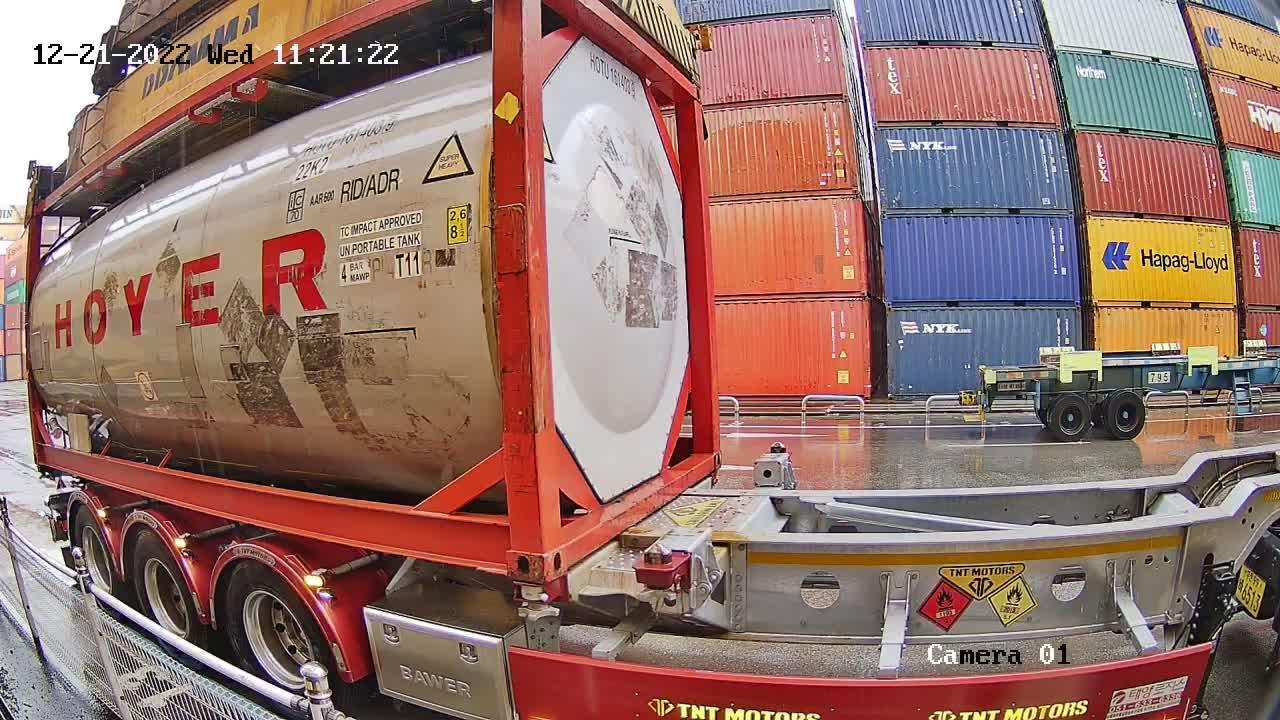Chassis: (514, 471, 721, 615)
Cone: (513, 578, 560, 623)
Hole_L: (540, 505, 584, 582)
Hole_R: (482, 517, 543, 580), (699, 432, 723, 475)
Tire: (227, 565, 336, 710), (131, 534, 201, 659), (75, 510, 117, 609)
